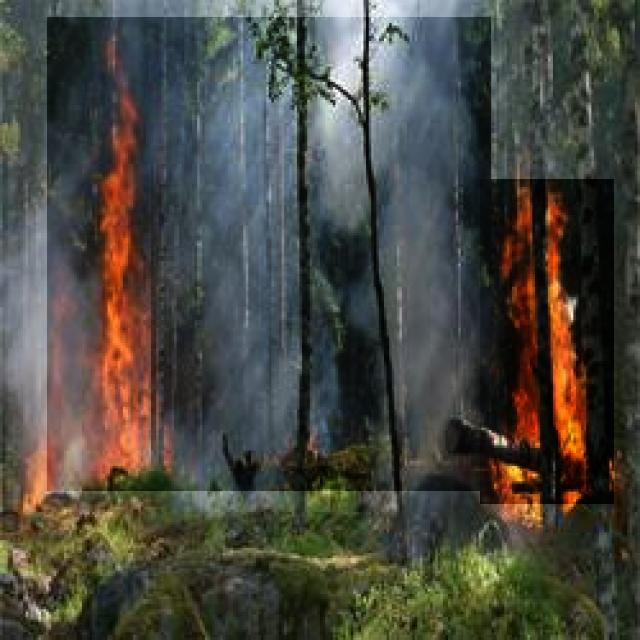Fire: (480, 179, 614, 504), (99, 74, 161, 488)
Smoke: (47, 17, 491, 491)
